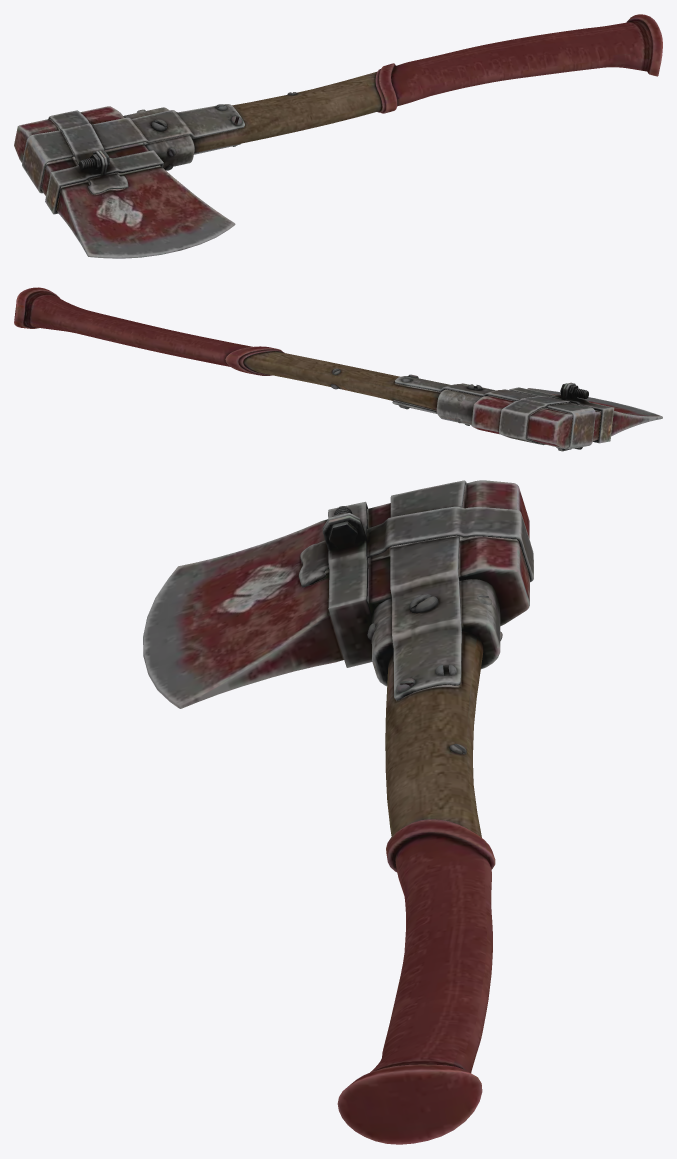
File: tool-fireAxe.glb
3 views of the same model, one above another, from view 1: azimuth 30°, elevation 25°; view 2: azimuth 150°, elevation 25°; view 3: azimuth 270°, elevation 25° (orthographic). The views are drawn at different scales.
Visible parts, largest first — view 1: Cylinder.002; view 2: Cylinder.002; view 3: Cylinder.002.
Boxes of the visible parts, x1,y1,x2,y2 form: Cylinder.002: (14, 14, 662, 258); Cylinder.002: (14, 287, 662, 451); Cylinder.002: (143, 480, 533, 1144).
Bounding box in the file's own units: 445 × 47.01 × 130.
Materials: 1 (1 with a texture image).
